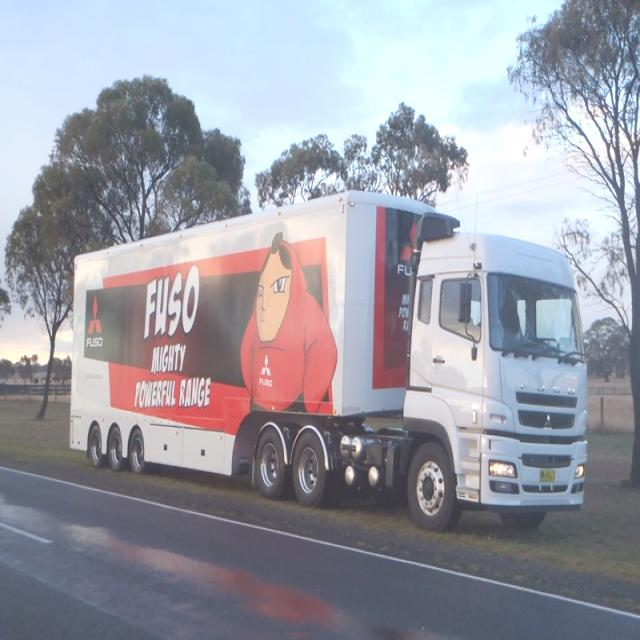truck: (74, 189, 587, 532)
